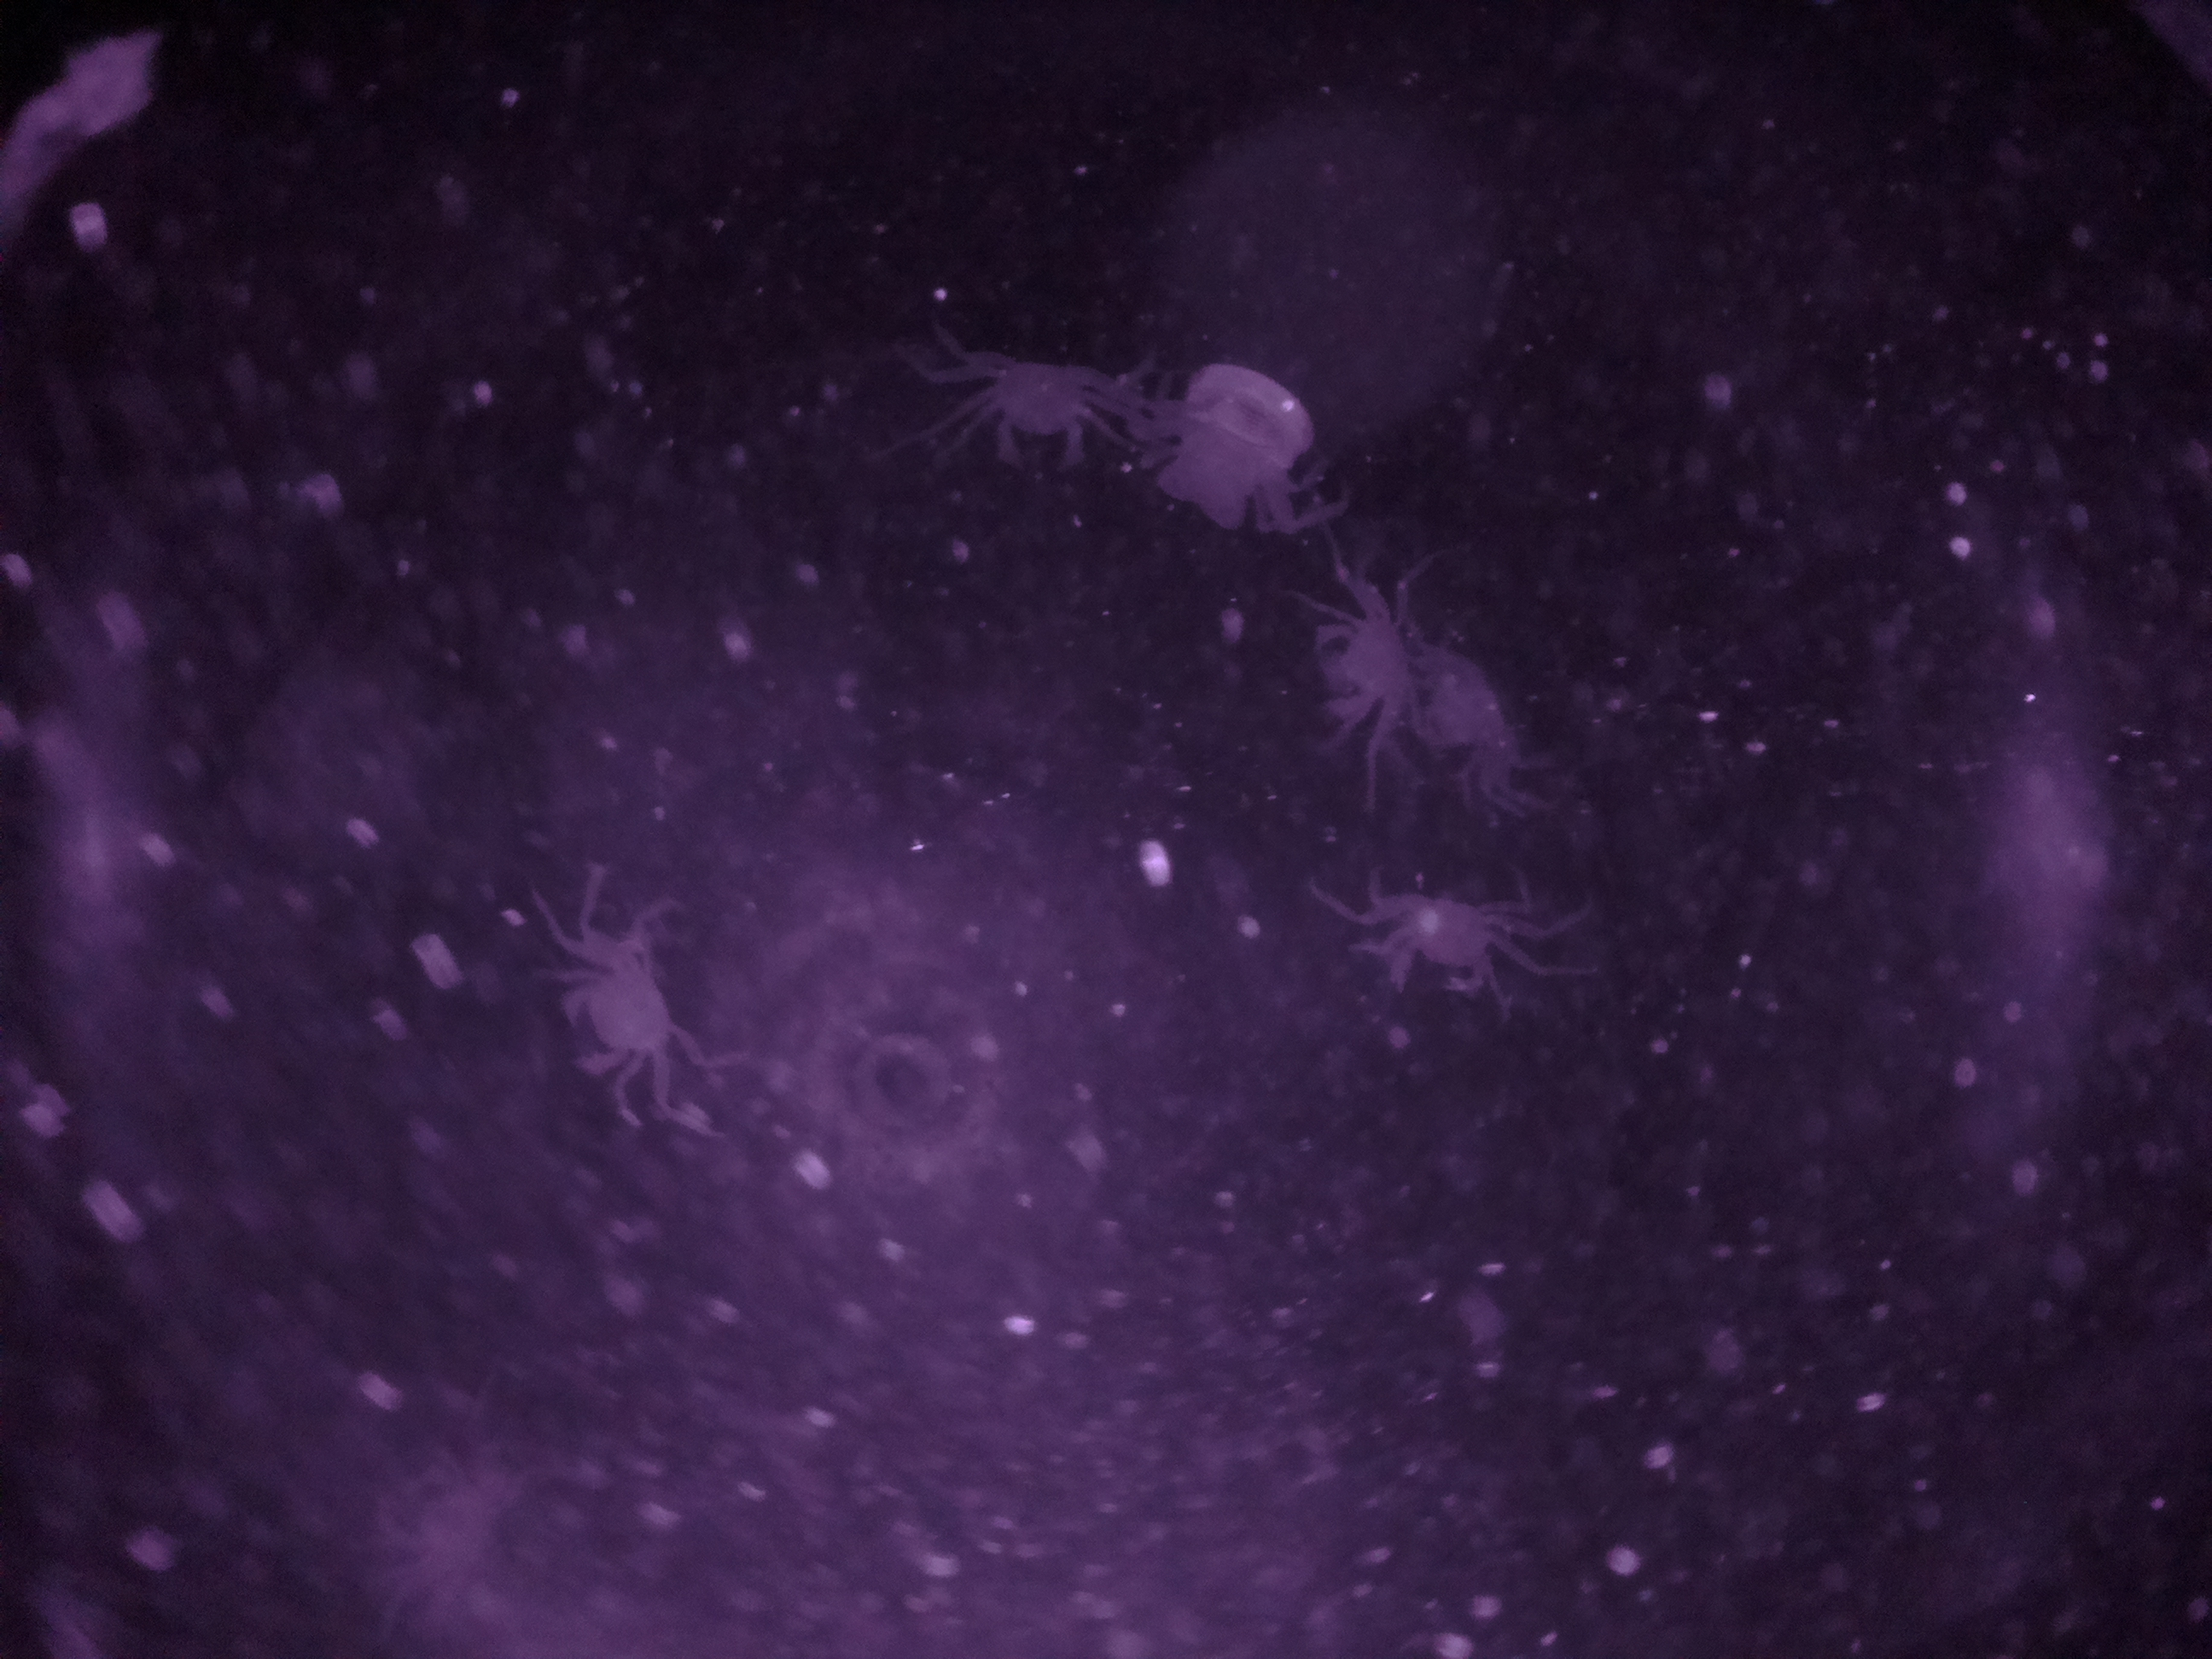Crab: (540, 875, 704, 1140), (1324, 857, 1555, 1011), (913, 340, 1157, 476), (1313, 552, 1423, 784)
